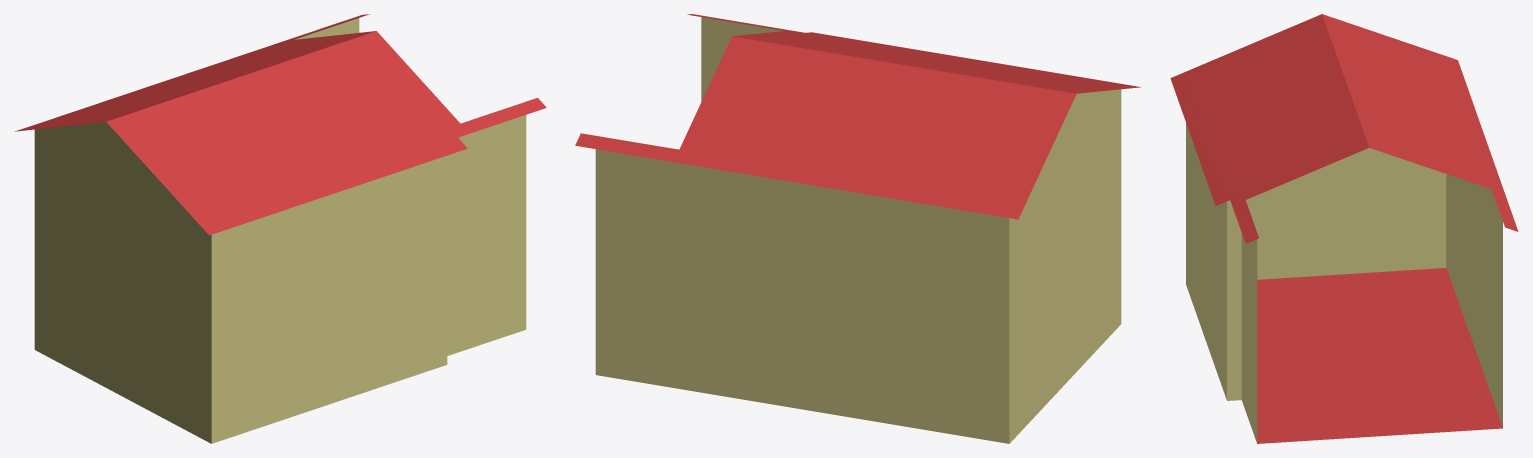
The picture shows the model from 3 angles, left to right: view 1: azimuth 30°, elevation 25°; view 2: azimuth 150°, elevation 25°; view 3: azimuth 270°, elevation 25°; orthographic projection. The views are drawn at different scales.
Size of the model in its own units: 16.41 by 12.77 by 10.35.
